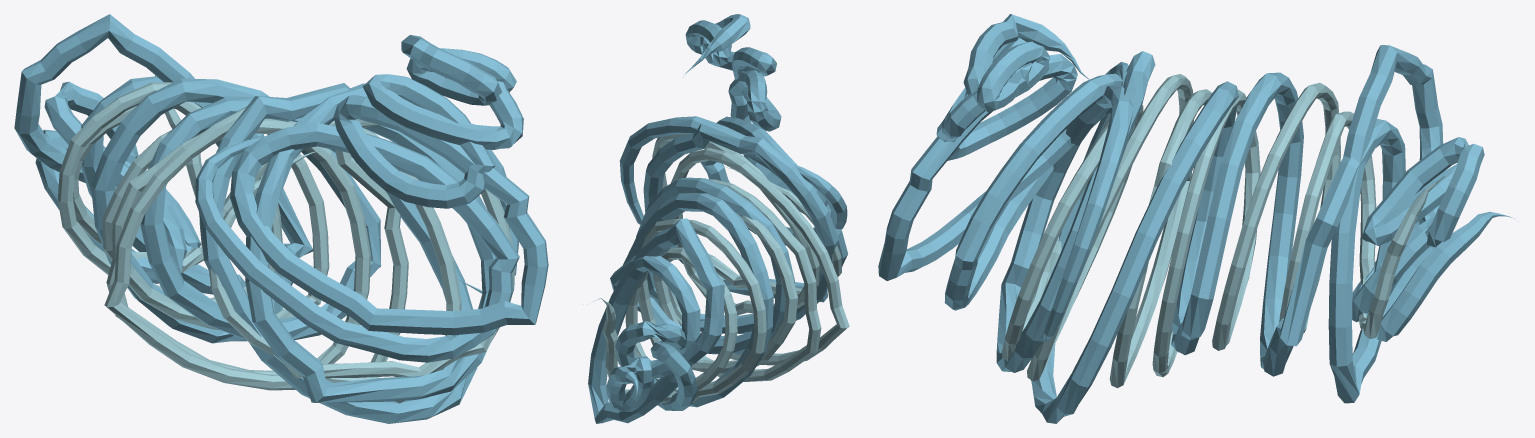
File: Magic3_mint.fbx
3 views of the same model, side by side, from view 1: azimuth 30°, elevation 25°; view 2: azimuth 150°, elevation 25°; view 3: azimuth 270°, elevation 25° (orthographic). The views are drawn at different scales.
Parts seen in each view (by area): view 1: Magic3; view 2: Magic3; view 3: Magic3.
Boxes of the visible parts, x1,y1,x2,y2 form: Magic3: (14, 14, 548, 423); Magic3: (583, 14, 849, 423); Magic3: (878, 14, 1515, 423).
Bounding box in the file's own units: 1.82 × 1.98 × 2.98.
